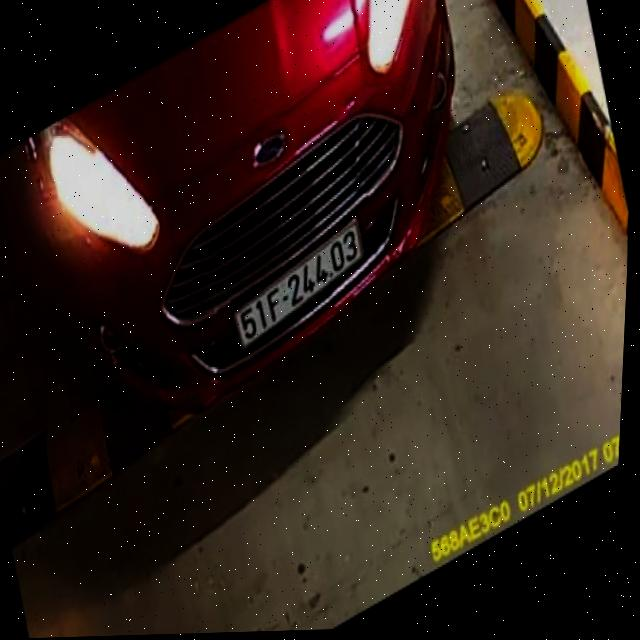car: (7, 0, 468, 425)
plate: (222, 219, 370, 354)
